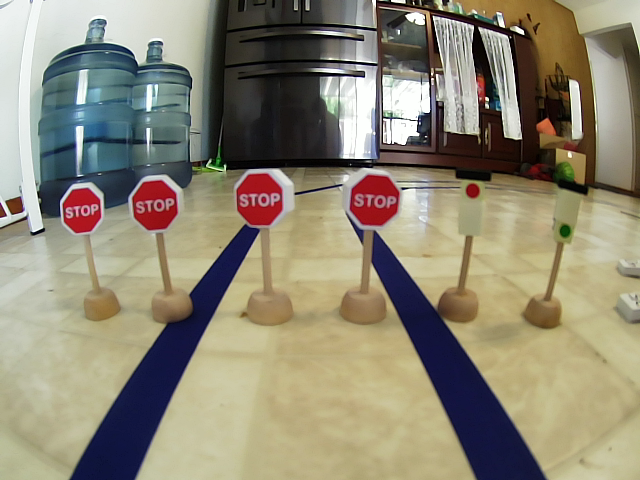green: (549, 176, 588, 251)
red: (451, 164, 499, 239)
stop: (337, 164, 409, 234), (232, 166, 298, 230), (124, 171, 191, 233), (54, 180, 112, 237)
